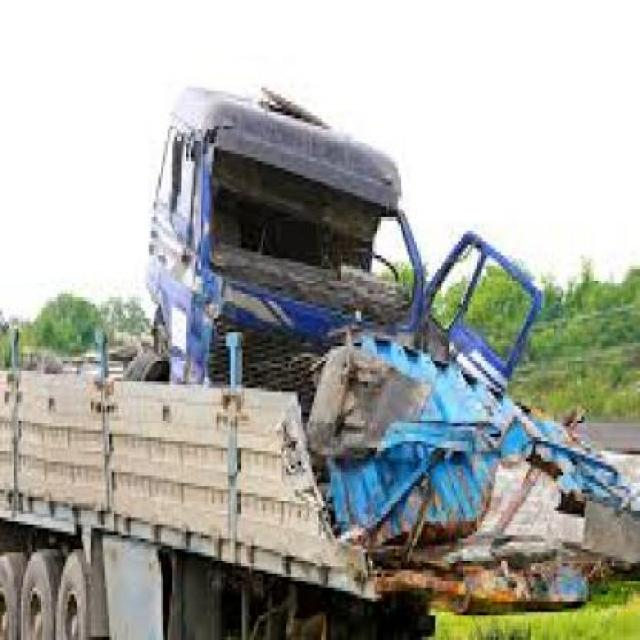accident: (132, 51, 563, 594)
